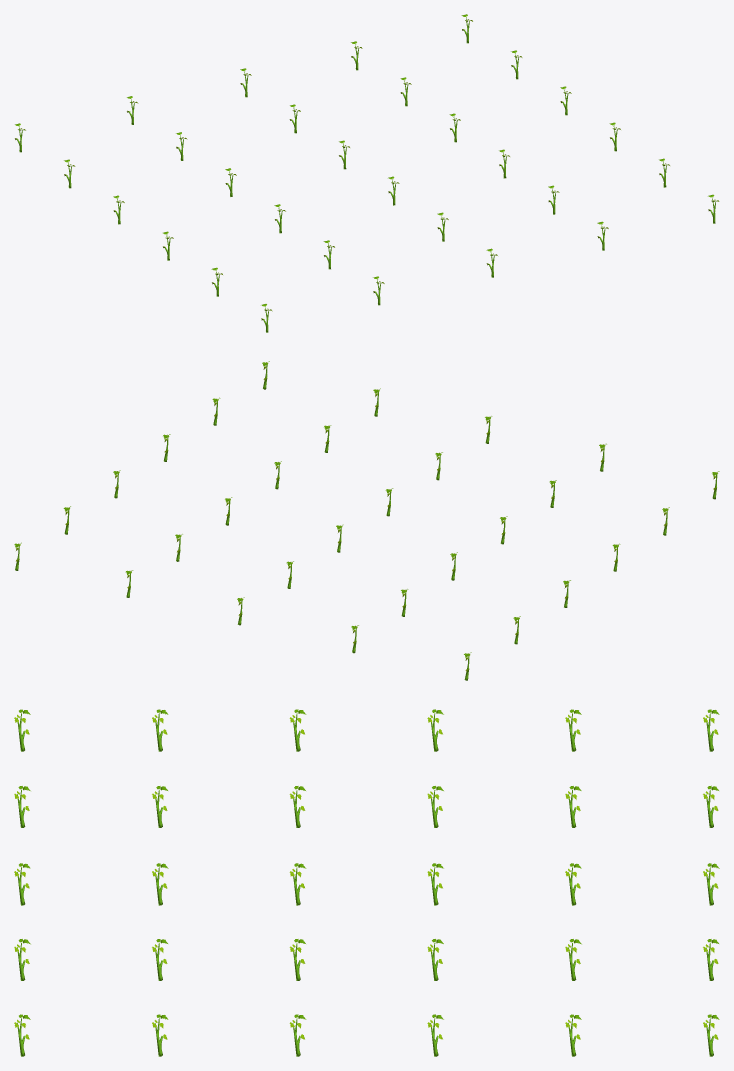
File: Y1Spring.fbx
The picture shows the model from 3 angles, top to bottom: view 1: azimuth 30°, elevation 25°; view 2: azimuth 150°, elevation 25°; view 3: azimuth 270°, elevation 25°; orthographic projection. The views are drawn at different scales.
Visible parts, largest first — view 1: Y1_Spring; view 2: Y1_Spring; view 3: Y1_Spring.
Boxes of the visible parts, x1,y1,x2,y2 form: Y1_Spring: (15,14,719,332); Y1_Spring: (14,361,719,680); Y1_Spring: (14,709,719,1056).
Size of the model in its own units: 296 by 17.5 by 285.
